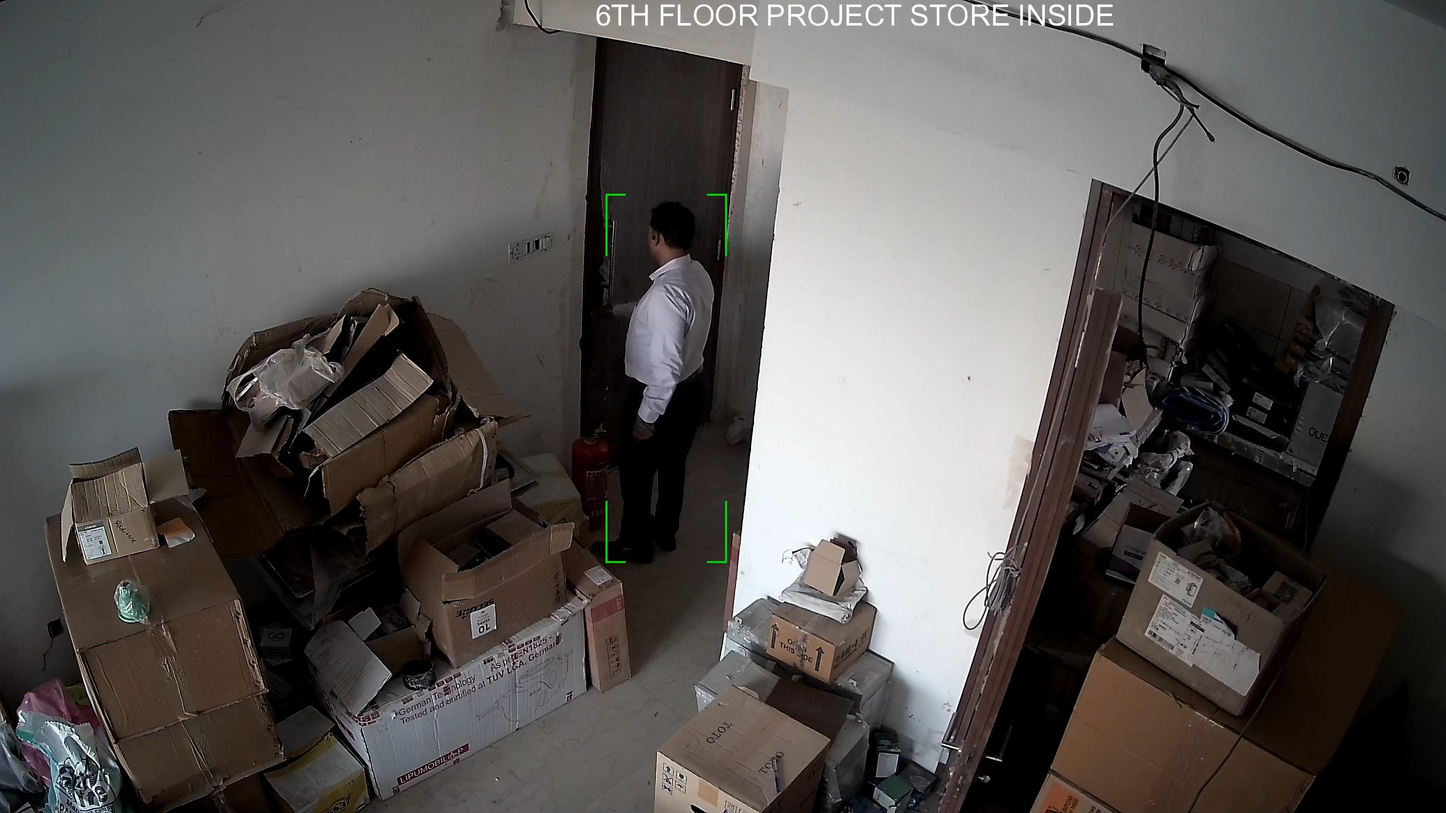Door-Close: (547, 33, 754, 574)
